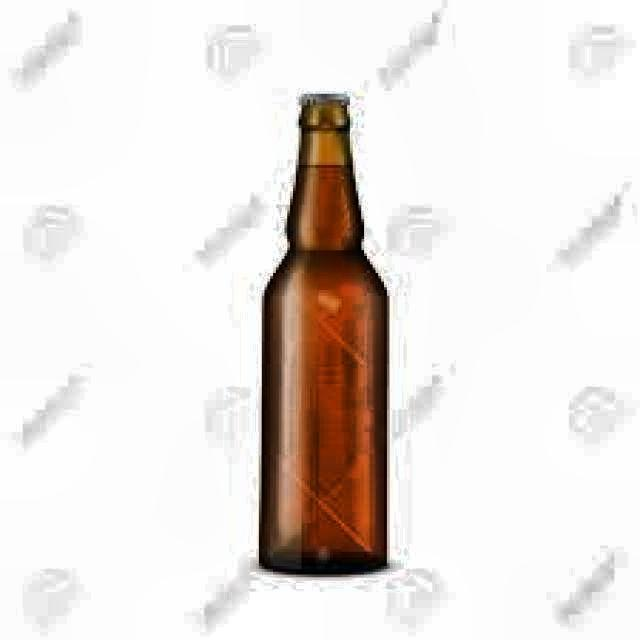glass: (257, 93, 390, 579)
